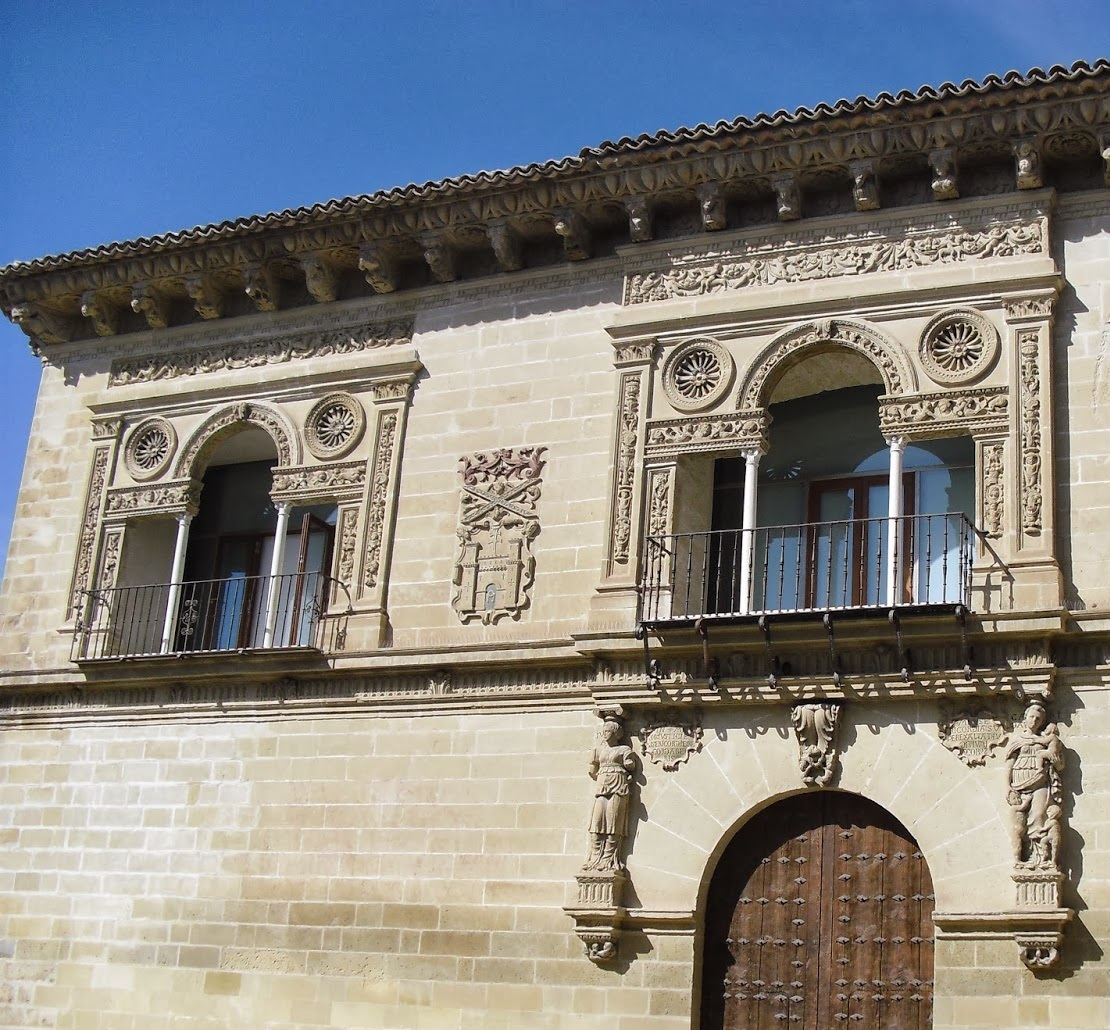arco-medio-punto: (686, 776, 954, 952)
serliana: (657, 318, 990, 625), (93, 398, 347, 659)
